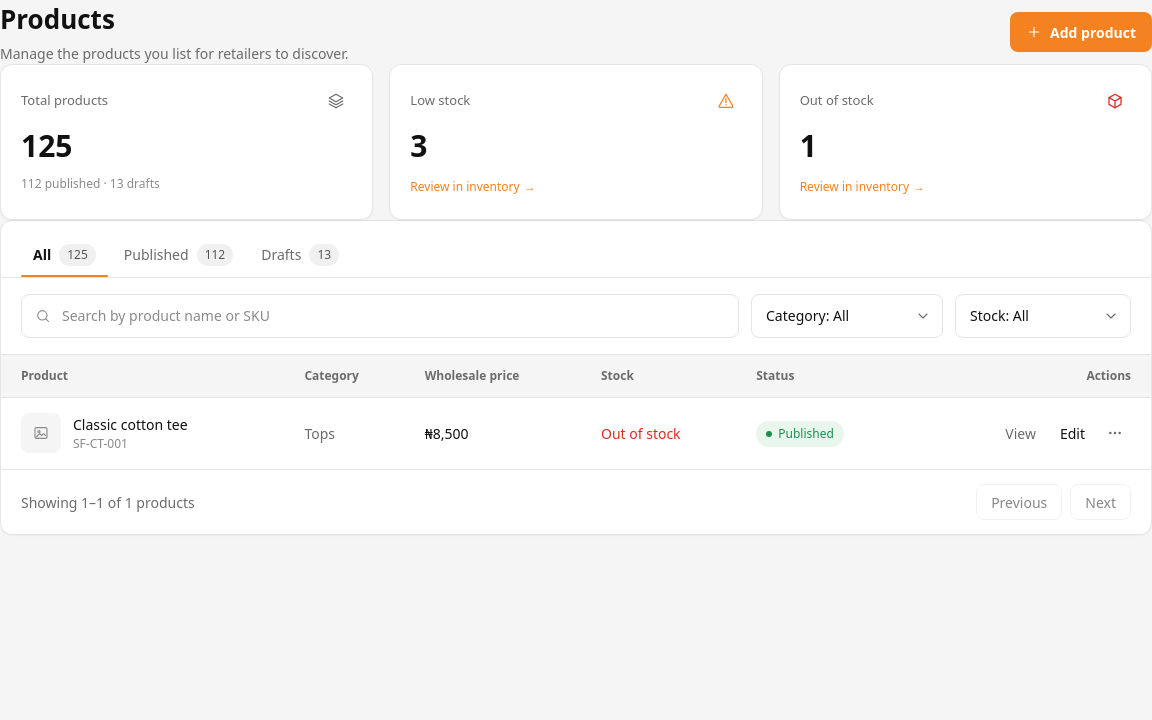
Test: products list › opens the Product details dialog on View (with thumbnail strip & 2x2 grid) while Edit links to the edit route
The image size is (1152, 720).
Expected: the text "Classic cotton tee" is shown, [73, 414, 188, 435]
What coordinates should you click on to do the following:
click the button "View"
I would click on:
 (1021, 433)
Its box is [995, 417, 1046, 449].
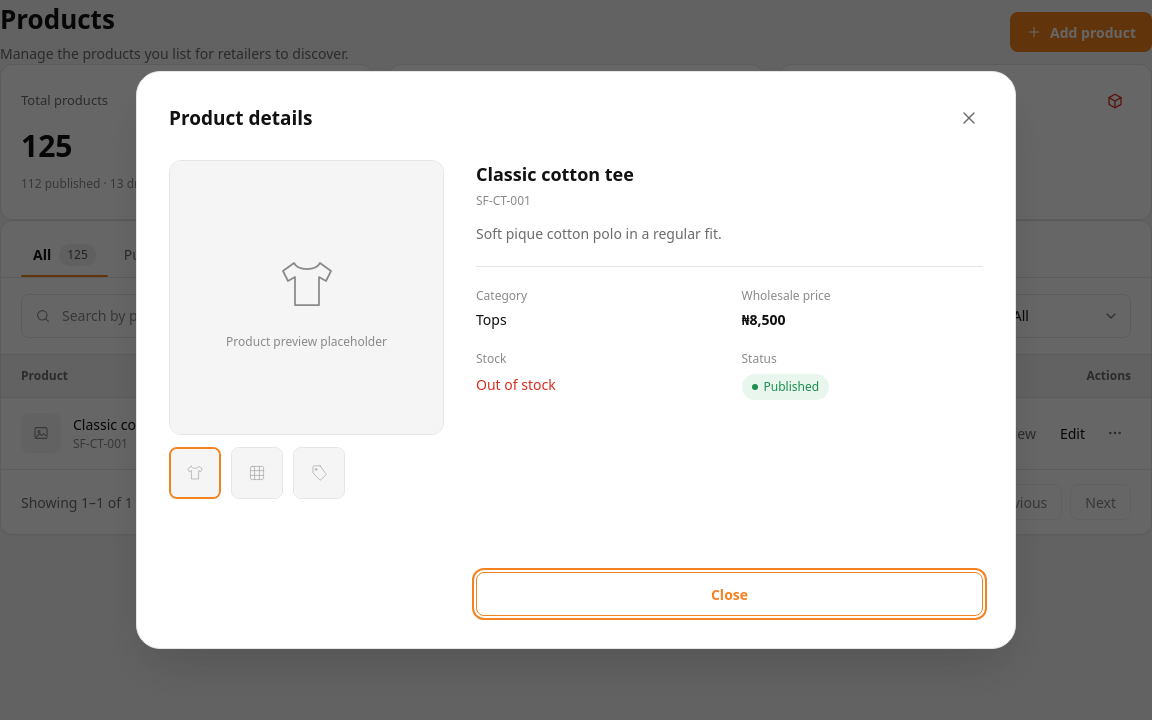
Expected: the heading "Product details" is shown, [169, 104, 312, 132]
Expected: the heading "Classic cotton tee" is shown, [476, 162, 634, 186]
Expected: the text "SF-CT-001" is shown, [476, 192, 531, 209]
What coordinates should you click on to do the following:
click the button named "Fabric detail placeholder view"
I would click on:
 (257, 473)
Its box is [231, 447, 283, 499].
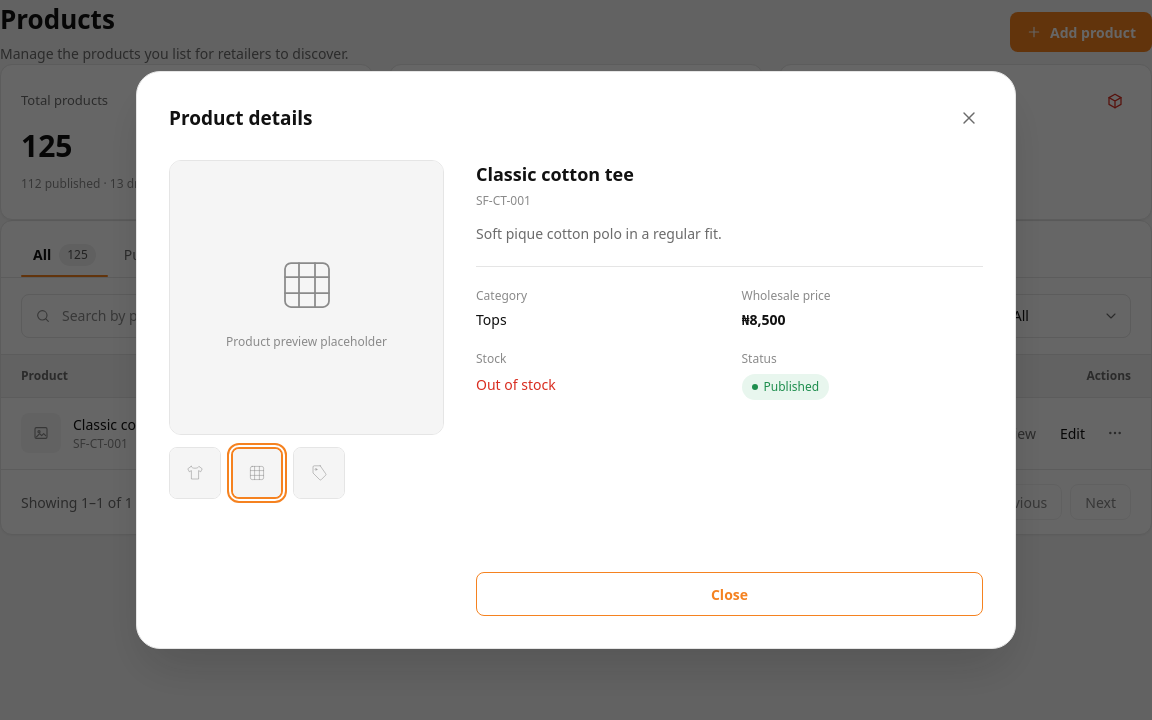
What coordinates should you click on to do the following:
click the button "Close"
I would click on:
 (730, 594)
Its box is [476, 572, 983, 616].
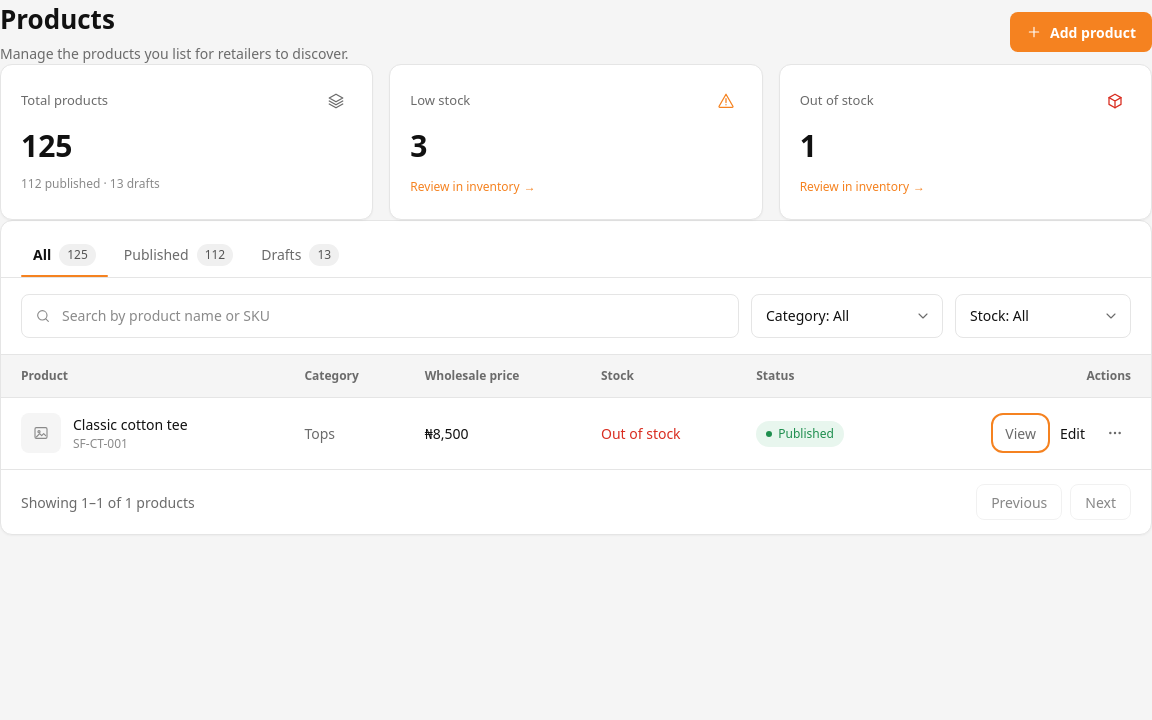
Expected: the dialog is gone
